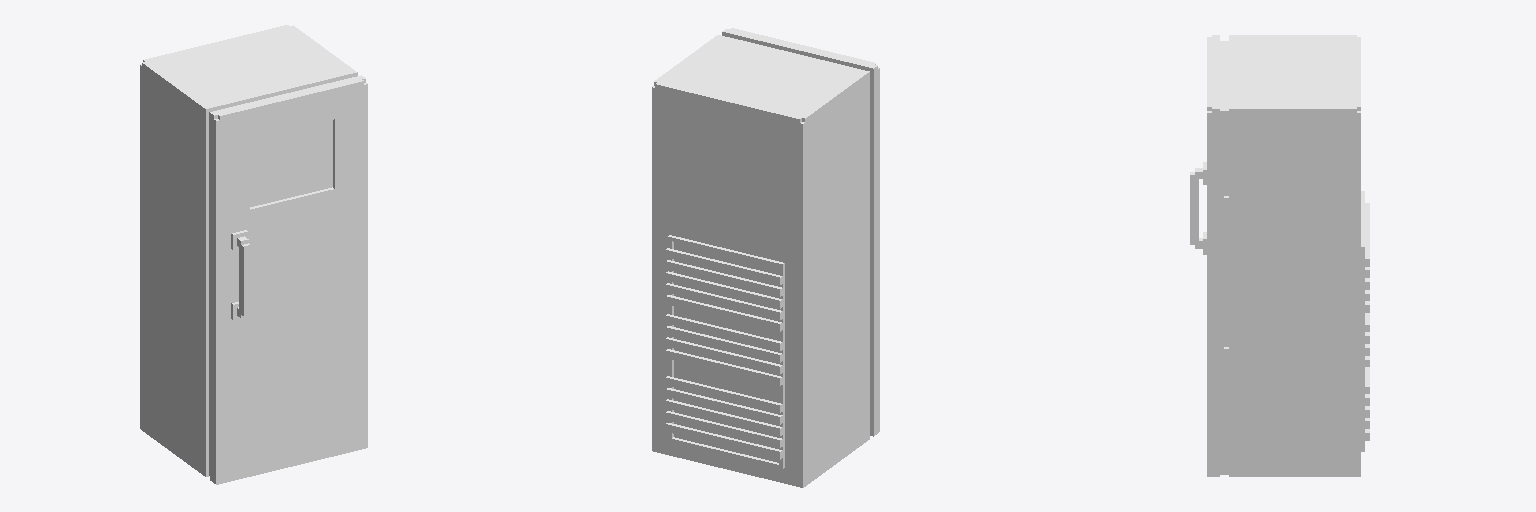
The model's file is bloodbag_shelf.obj.
3 renders of one model, left to right at view 1: azimuth 30°, elevation 25°; view 2: azimuth 150°, elevation 25°; view 3: azimuth 270°, elevation 25°, orthographic.
Visible parts, largest first — view 1: bloodbag; view 2: bloodbag; view 3: bloodbag.
Part boxes in pixels (left/top/right/bottom): bloodbag: left=140, top=25, right=367, bottom=484; bloodbag: left=652, top=28, right=879, bottom=487; bloodbag: left=1190, top=35, right=1369, bottom=476.
Bounding box in the file's own units: 41 × 95 × 42.